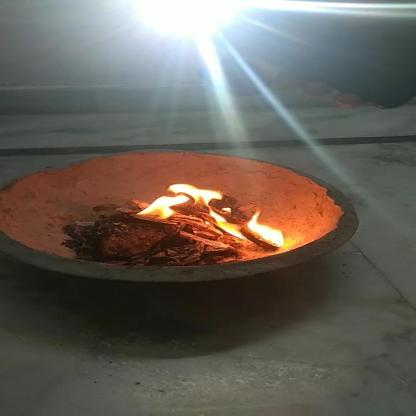fire: (130, 182, 229, 224), (236, 209, 290, 249)
